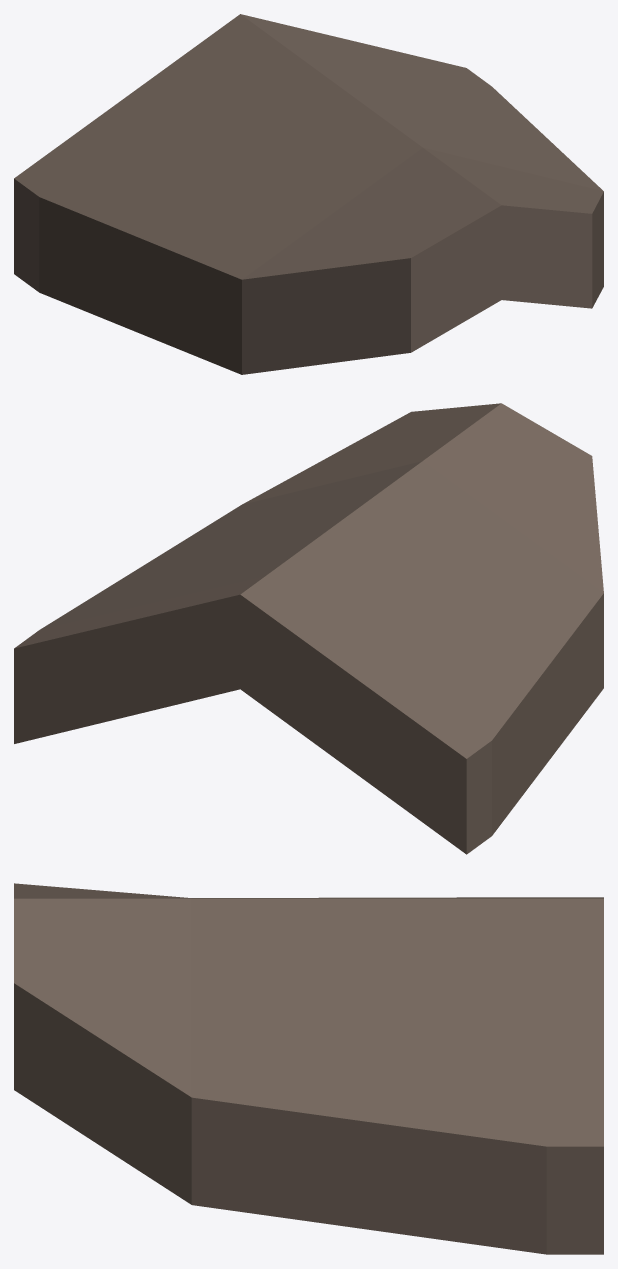
File: Dachziegel.fbx
3 renders of one model, top to bottom at view 1: azimuth 30°, elevation 25°; view 2: azimuth 150°, elevation 25°; view 3: azimuth 270°, elevation 25°, orthographic. The views are drawn at different scales.
Parts seen in each view (by area): view 1: Dachziegel; view 2: Dachziegel; view 3: Dachziegel.
Boxes of the visible parts, left/top/right/bottom form: Dachziegel: left=14, top=14, right=603, bottom=374; Dachziegel: left=14, top=403, right=603, bottom=854; Dachziegel: left=14, top=883, right=603, bottom=1254.
Size of the model in its own units: 115 by 49.57 by 115.
